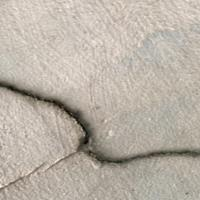crack: (0, 70, 199, 187)
